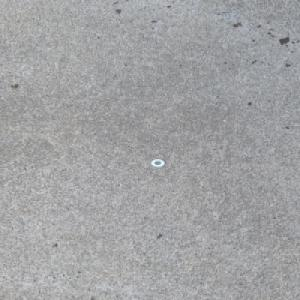Washer: (150, 158, 166, 167)
